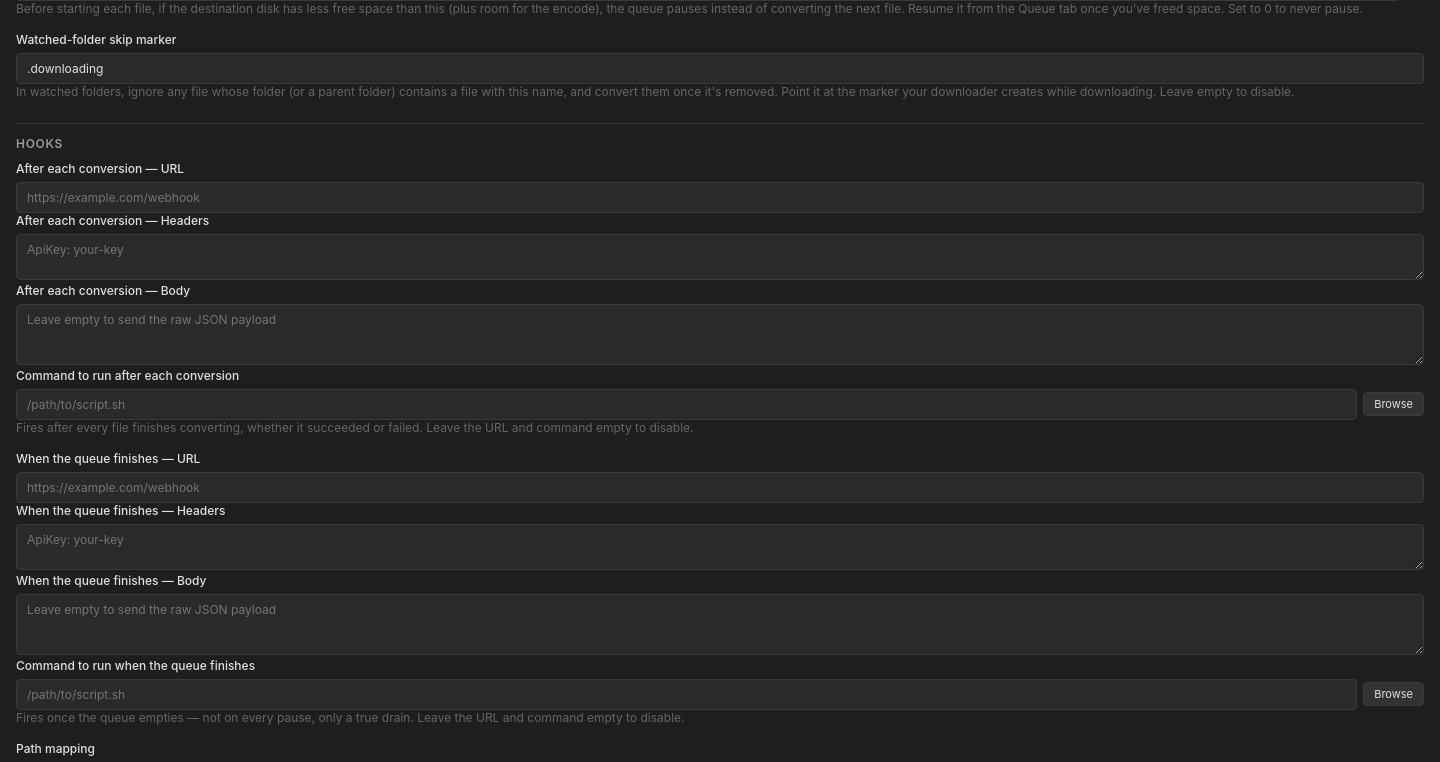
Test: SettingsPage › populates the correct command field from the file picker, not the other one
(page scrolled)
Expected: the field labelled "Command to run after each conversion" is empty, [16, 389, 1357, 420]
Click the button with aria-label "Choose a script to run after each conversion" at (1394, 404), box [1363, 392, 1424, 416]
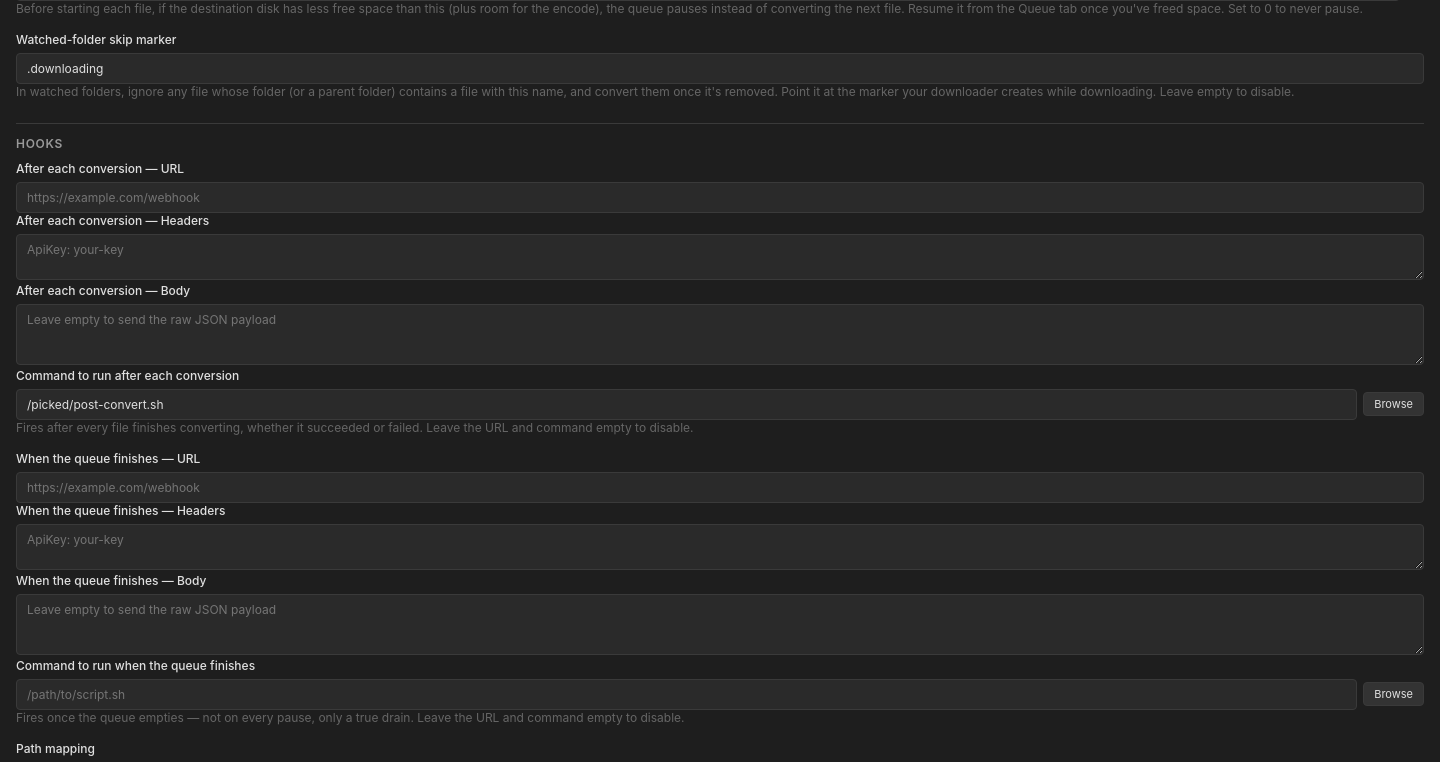
Expected: the field labelled "Command to run when the queue finishes" is empty, [16, 679, 1357, 710]
Expected: the field labelled "Command to run after each conversion" holds "/picked/post-convert.sh", [16, 389, 1357, 420]
Click the button with aria-label "Choose a script to run when the queue finishes" at (1394, 694), box [1363, 682, 1424, 706]
(page scrolled)
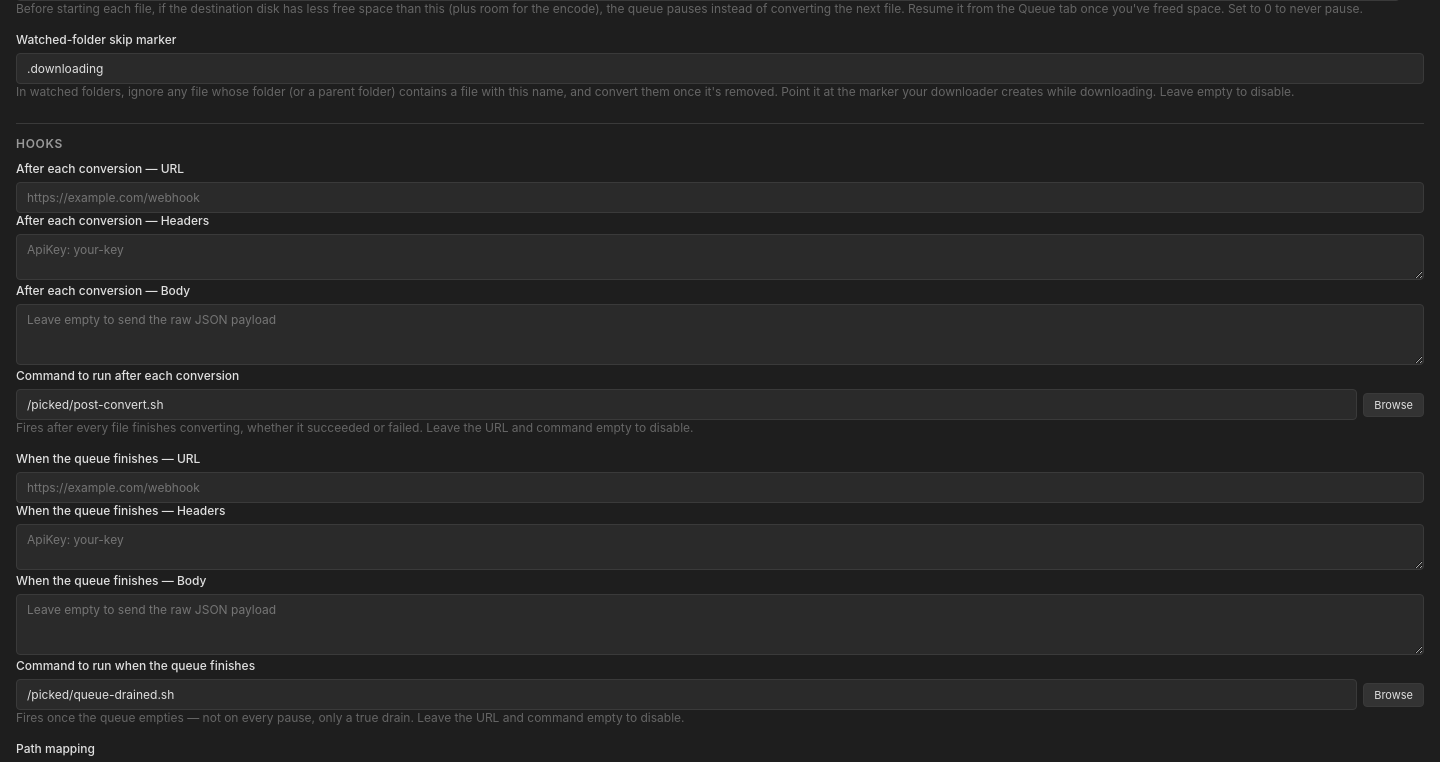
Expected: the field labelled "Command to run after each conversion" holds "/picked/post-convert.sh", [16, 389, 1357, 420]
Expected: the field labelled "Command to run when the queue finishes" holds "/picked/queue-drained.sh", [16, 679, 1357, 710]
